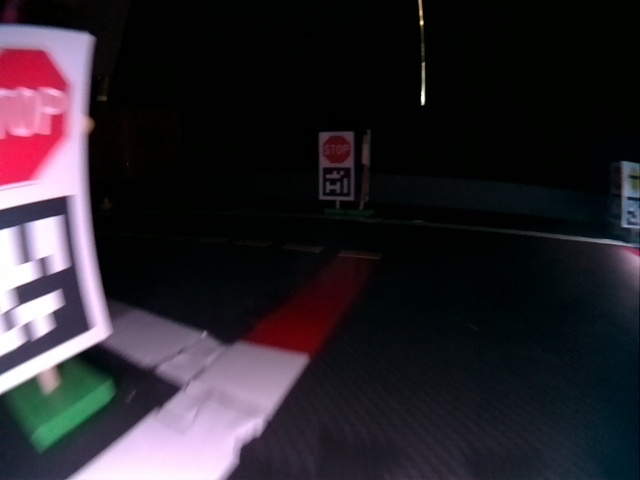Duckie: (101, 197, 111, 209)
Intersection sign: (626, 165, 640, 193)
QR code: (0, 195, 98, 382), (321, 167, 352, 198), (625, 197, 640, 226), (610, 195, 620, 221)
Stop sign: (1, 39, 81, 186), (321, 134, 353, 163), (611, 166, 621, 191)
